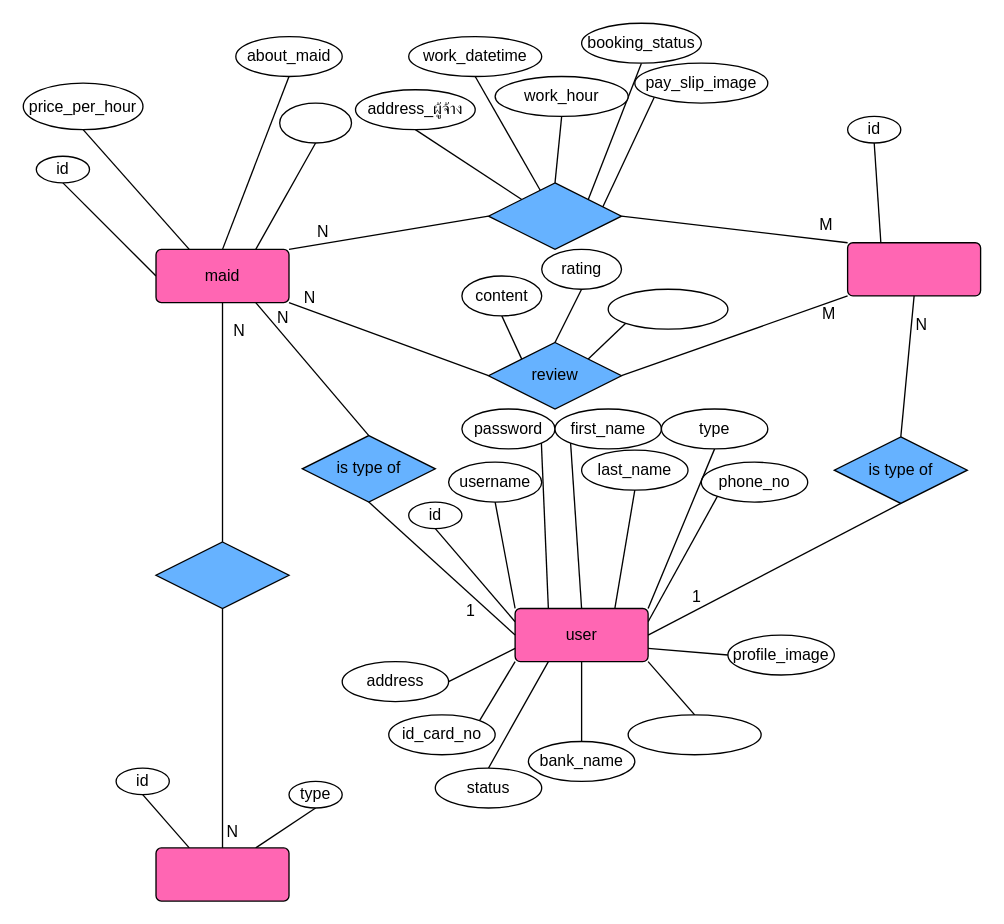
Some shapes in this 1004 by 924 pixel diagram are drawn without their labels. The shapes that lost their labels are listed below. From the top down, each one's centre as x and y in pixels, then its label:
the point at 315,122: holidays
the point at 554,215: book
the point at 913,268: employer
the point at 667,308: reviewed_date
the point at 222,574: serve
the point at 694,734: bank_account_no
the point at 222,874: building_type
